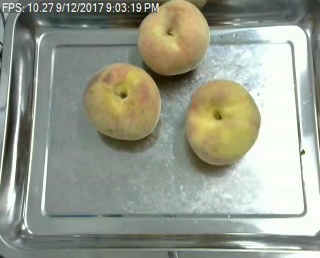Peach: (183, 78, 261, 167), (81, 61, 161, 142), (136, 0, 210, 76)
